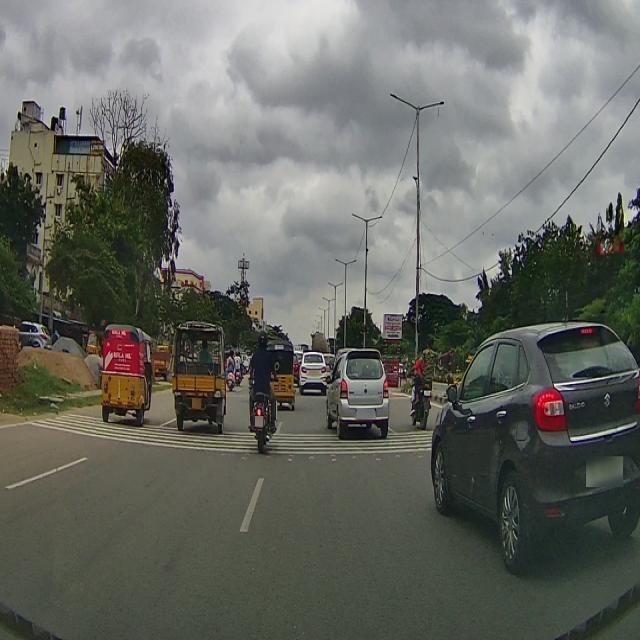auto ahead at: (166, 314, 234, 441), (95, 314, 150, 436)
car ahead at: (428, 314, 640, 580), (325, 346, 392, 447)
motorcycle ahead at: (245, 386, 281, 451)
